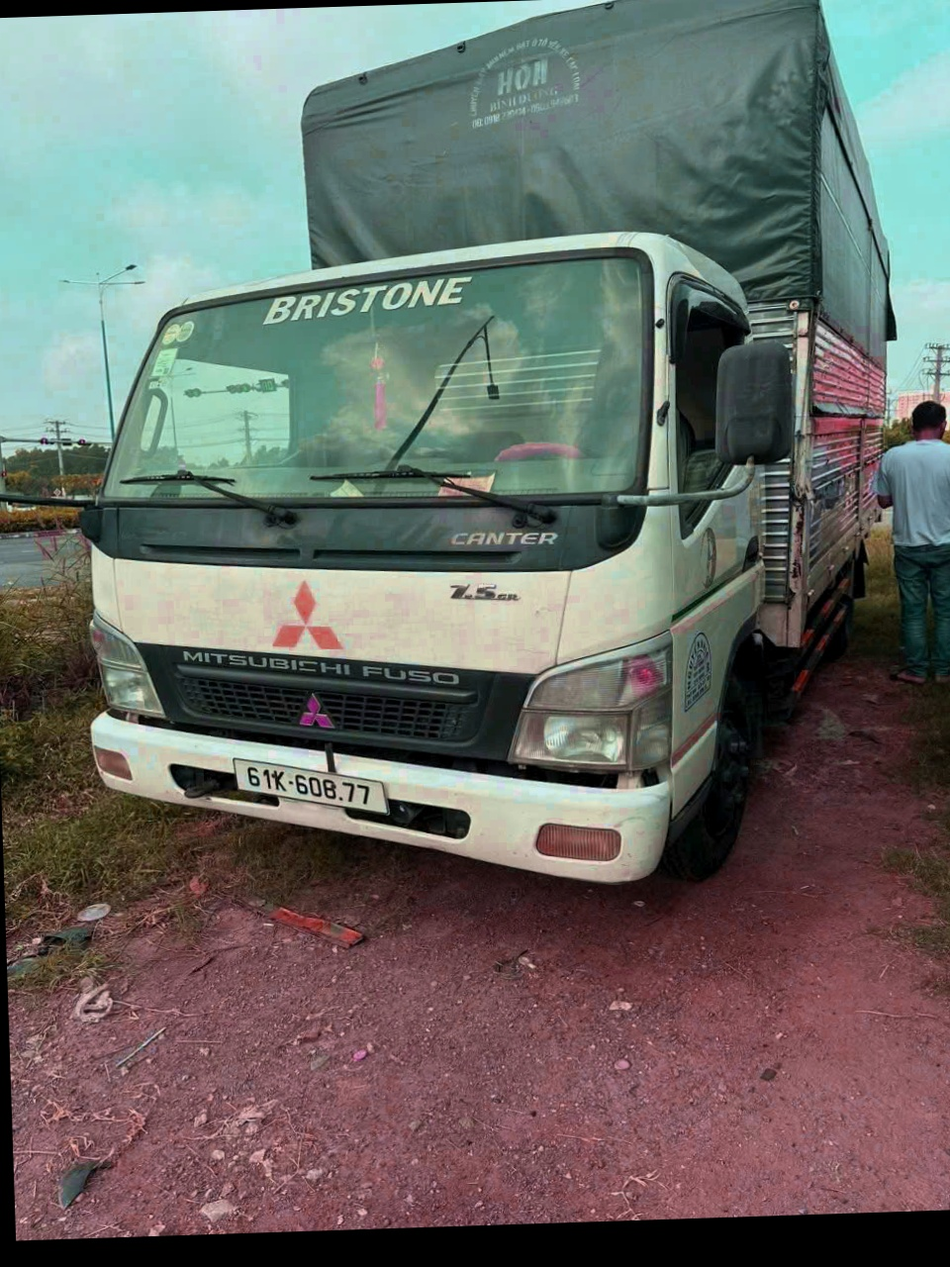Bien-so: (231, 748, 400, 827)
